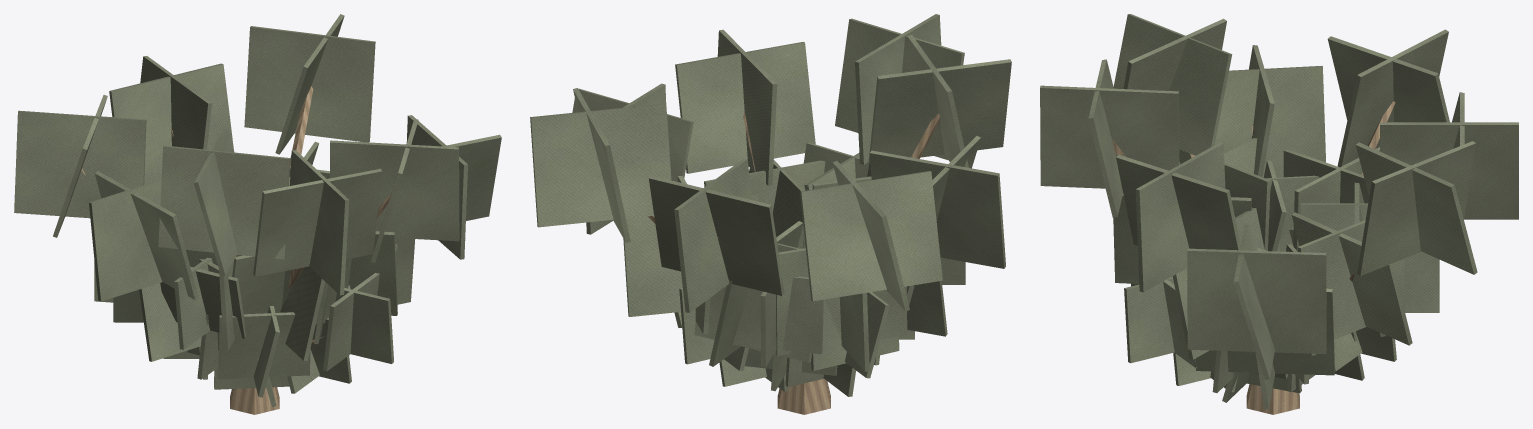
The model's file is bush.glb.
The picture shows the model from 3 angles, left to right: view 1: azimuth 30°, elevation 25°; view 2: azimuth 150°, elevation 25°; view 3: azimuth 270°, elevation 25°; orthographic projection. The views are drawn at different scales.
Visible parts, largest first — view 1: NC_bush; view 2: NC_bush; view 3: NC_bush.
Part boxes in pixels (<box>): NC_bush: <box>14,14,501,414</box>; NC_bush: <box>530,14,1011,414</box>; NC_bush: <box>1040,14,1518,414</box>.
Bounding box in the file's own units: 1.22 × 0.8719 × 1.17.
2 materials, 2 textured.
